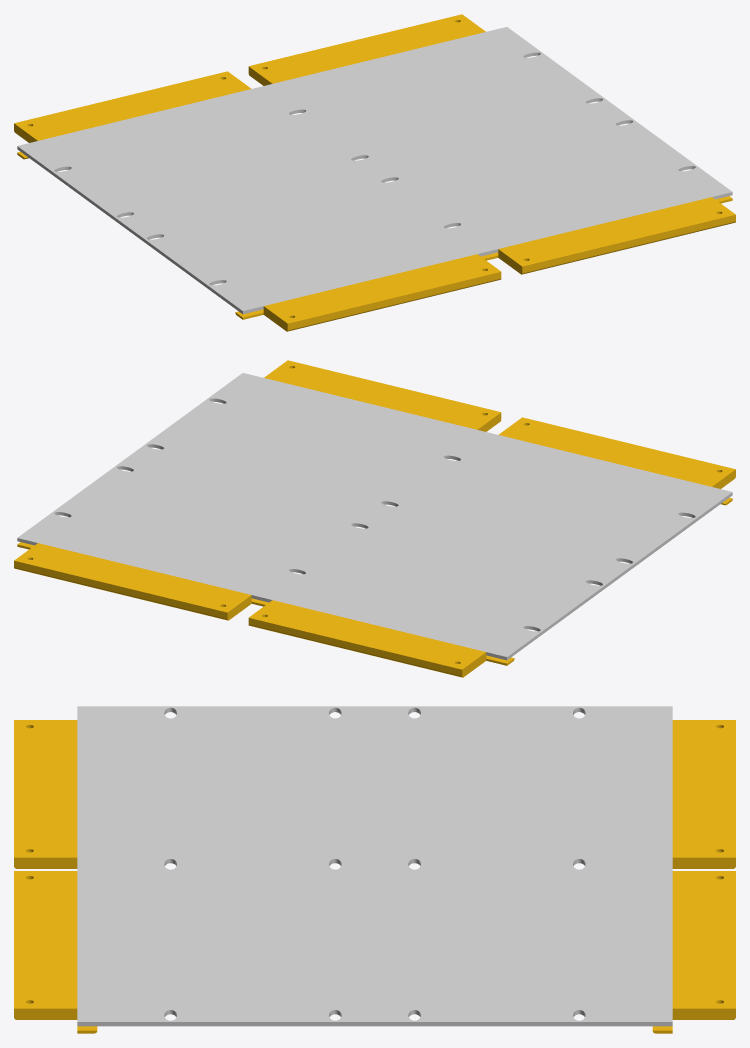
File: cover_assembly.dae
3 views of the same model, one above another, from view 1: azimuth 30°, elevation 25°; view 2: azimuth 150°, elevation 25°; view 3: azimuth 270°, elevation 25° (orthographic). The views are drawn at different scales.
Parts seen in each view (by area): view 1: Object; view 2: Object; view 3: Object.
Boxes of the visible parts, x1,y1,x2,y2 form: Object: (14,14,735,331); Object: (14,360,735,677); Object: (14,706,735,1033).
Bounding box in the file's own units: 0.47 × 0.455 × 0.00831.
